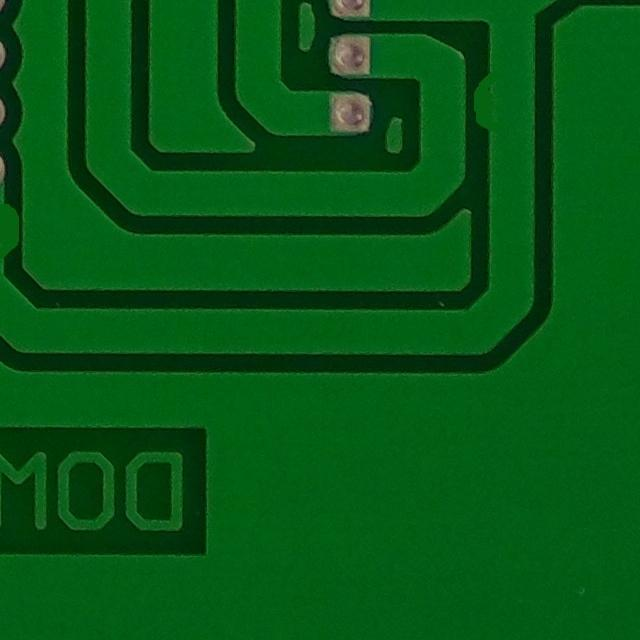spur: (450, 51, 506, 148), (0, 184, 30, 277)
